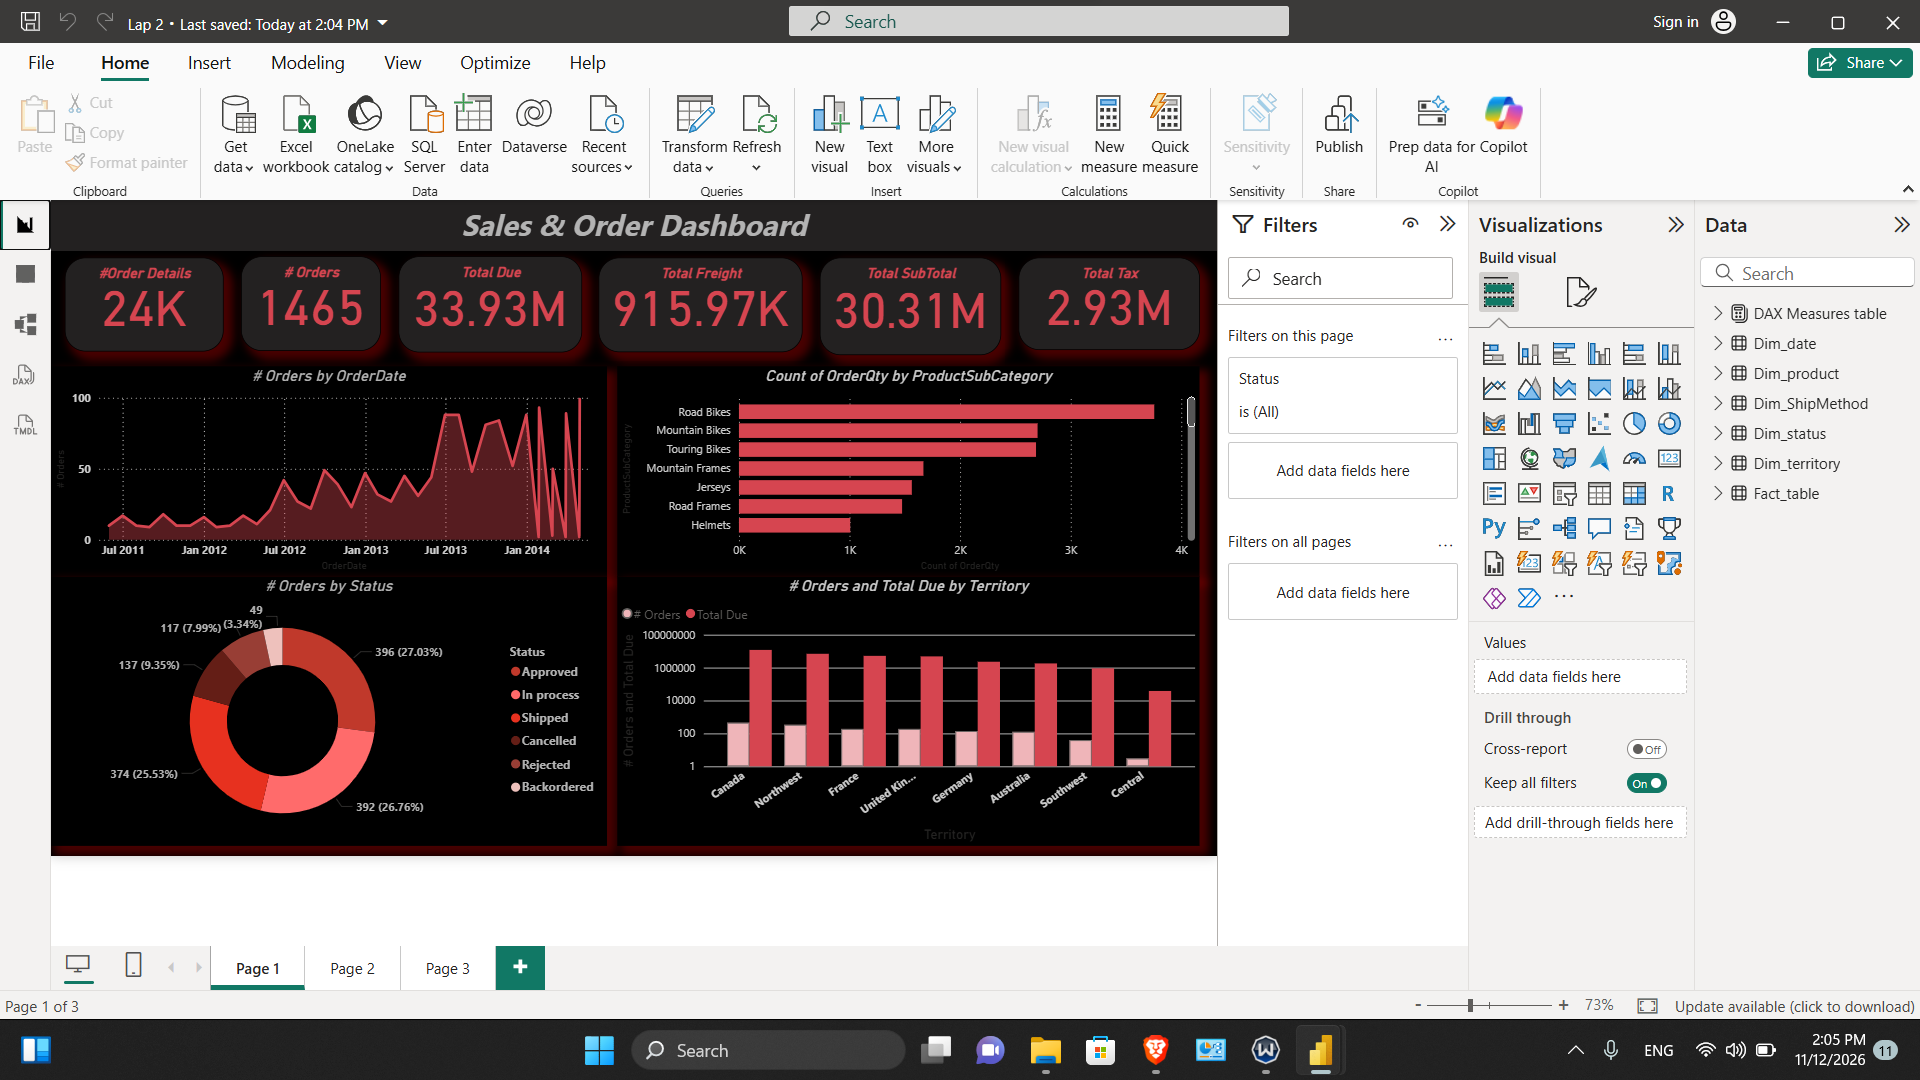

The dashboard page shown, as its layout file describes it:
{"tool":"powerbi","page":{"name":"Page 1","canvas":[1280,720],"ordinal":0},"visuals":[{"type":"card","title":"#Order Details","fields":{"Values":["DAX Measures table.# Order Details"]},"box":[15.1,63.1,174.3,102.9],"z":0},{"type":"card","title":"# Orders","fields":{"Values":["DAX Measures table.# Orders"]},"box":[208.3,61.7,153.7,104.3],"z":1000},{"type":"card","title":"Total Due","fields":{"Values":["DAX Measures table.Total Due"]},"box":[380.9,61.7,201.7,105.7],"z":2000},{"type":"card","title":"Total Freight","fields":{"Values":["DAX Measures table.Total Freight"]},"box":[601.6,63.1,223.7,104.3],"z":3000},{"type":"card","title":"Total SubTotal","fields":{"Values":["DAX Measures table.Total SubTotal"]},"box":[844.2,63.1,199,107],"z":4000},{"type":"card","title":"Total Tax","fields":{"Values":["DAX Measures table.Total Tax"]},"box":[1062.1,63.1,199,101.5],"z":5000},{"type":"textbox","box":[0,0,1280.3,56.3],"z":6000},{"type":"lineChart","fields":{"Y":["DAX Measures table.# Orders"],"Category":["Dim_date.OrderDate"]},"box":[0,182.5,610.6,230.5],"z":7000},{"type":"donutChart","fields":{"Category":["Dim_status.Status"],"Y":["DAX Measures table.# Orders"]},"box":[0,413,610.6,296.4],"z":8000},{"type":"barChart","fields":{"Category":["Dim_product.ProductCategory Hierarchy.ProductCategory","Dim_product.ProductCategory Hierarchy.ProductSubCategory"],"Y":["CountNonNull(Fact_table.OrderQty)"]},"box":[621.6,182.5,639.5,230.5],"z":9000},{"type":"clusteredColumnChart","fields":{"Y":["DAX Measures table.# Orders","DAX Measures table.Total Due"],"Category":["Dim_territory.Territory"]},"box":[621.6,413,639.5,296.4],"z":10000}]}

Visuals, with their boxes on the page's 1280x720 design canvas (x1, y1, x2, y2). These are canvas units, not pixel positions in the 1920x1080 screenshot, which may show the page scaled, cropped or inside an application window:
"#Order Details" card: <region>15, 63, 189, 166</region>
"# Orders" card: <region>208, 62, 362, 166</region>
"Total Due" card: <region>381, 62, 583, 167</region>
"Total Freight" card: <region>602, 63, 825, 167</region>
"Total SubTotal" card: <region>844, 63, 1043, 170</region>
"Total Tax" card: <region>1062, 63, 1261, 165</region>
textbox: <region>0, 0, 1280, 56</region>
lineChart - DAX Measures table.# Orders x Dim_date.OrderDate: <region>0, 182, 611, 413</region>
donutChart - Dim_status.Status x DAX Measures table.# Orders: <region>0, 413, 611, 709</region>
barChart - Dim_product.ProductCategory Hierarchy.ProductCategory x Dim_product.ProductCategory Hierarchy.ProductSubCategory: <region>622, 182, 1261, 413</region>
clusteredColumnChart - DAX Measures table.# Orders x DAX Measures table.Total Due: <region>622, 413, 1261, 709</region>
